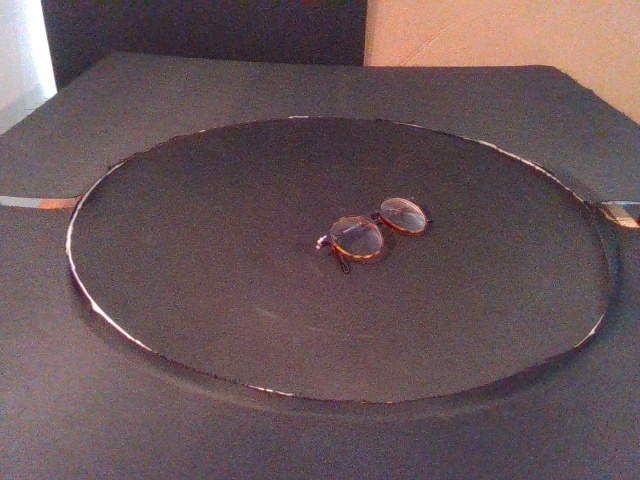glasses: (315, 195, 435, 275)
